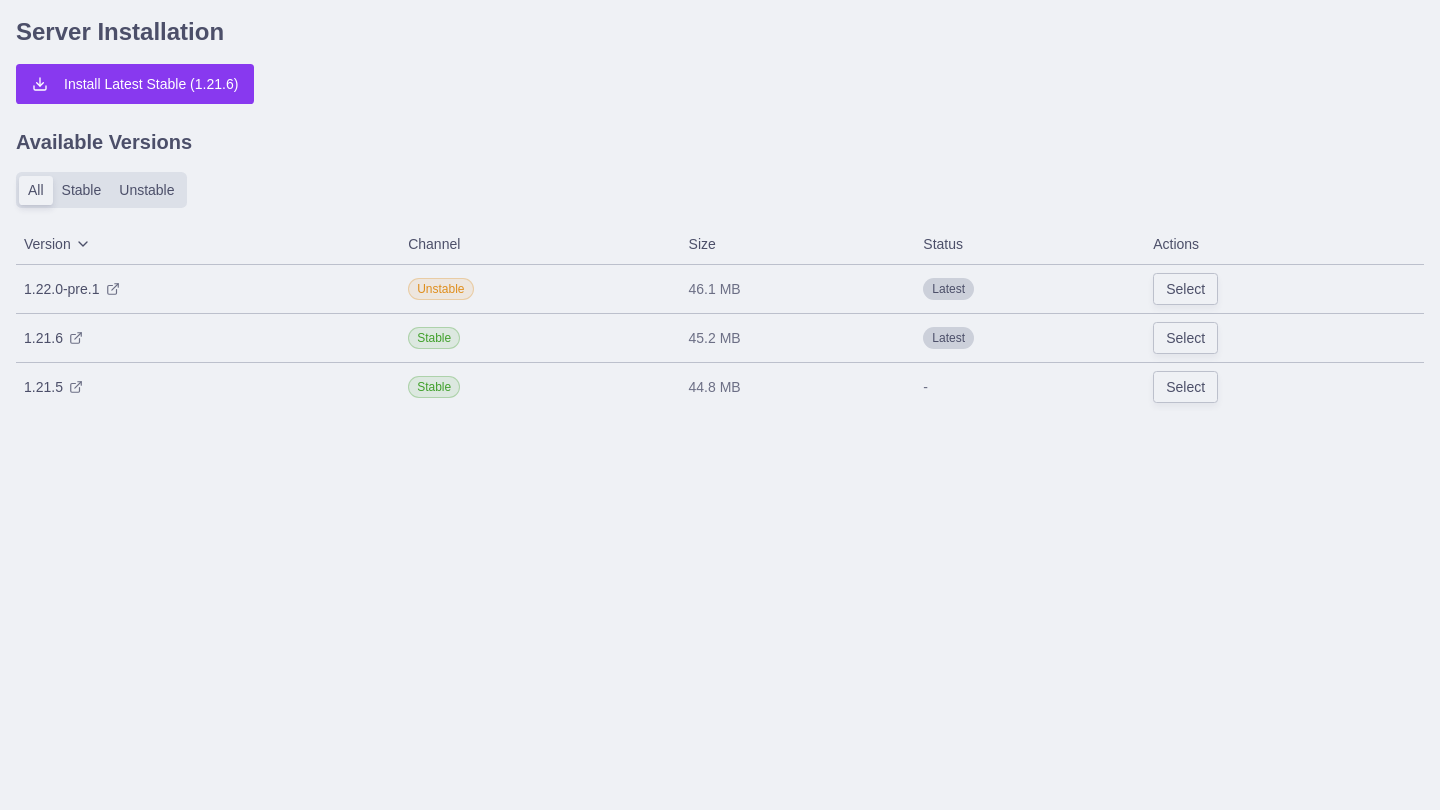
Test: VersionPage › not installed state (AC: 1, Story 13.5) › opens InstallVersionDialog on Select button click when not installed
Expected: the row with test id "version-table-row-1.21.6" is shown, [16, 313, 1424, 362]
// Click Select button for a version
Click the button with test id "version-table-select-1.21.6" at point(1186, 338), box [1153, 322, 1218, 354]
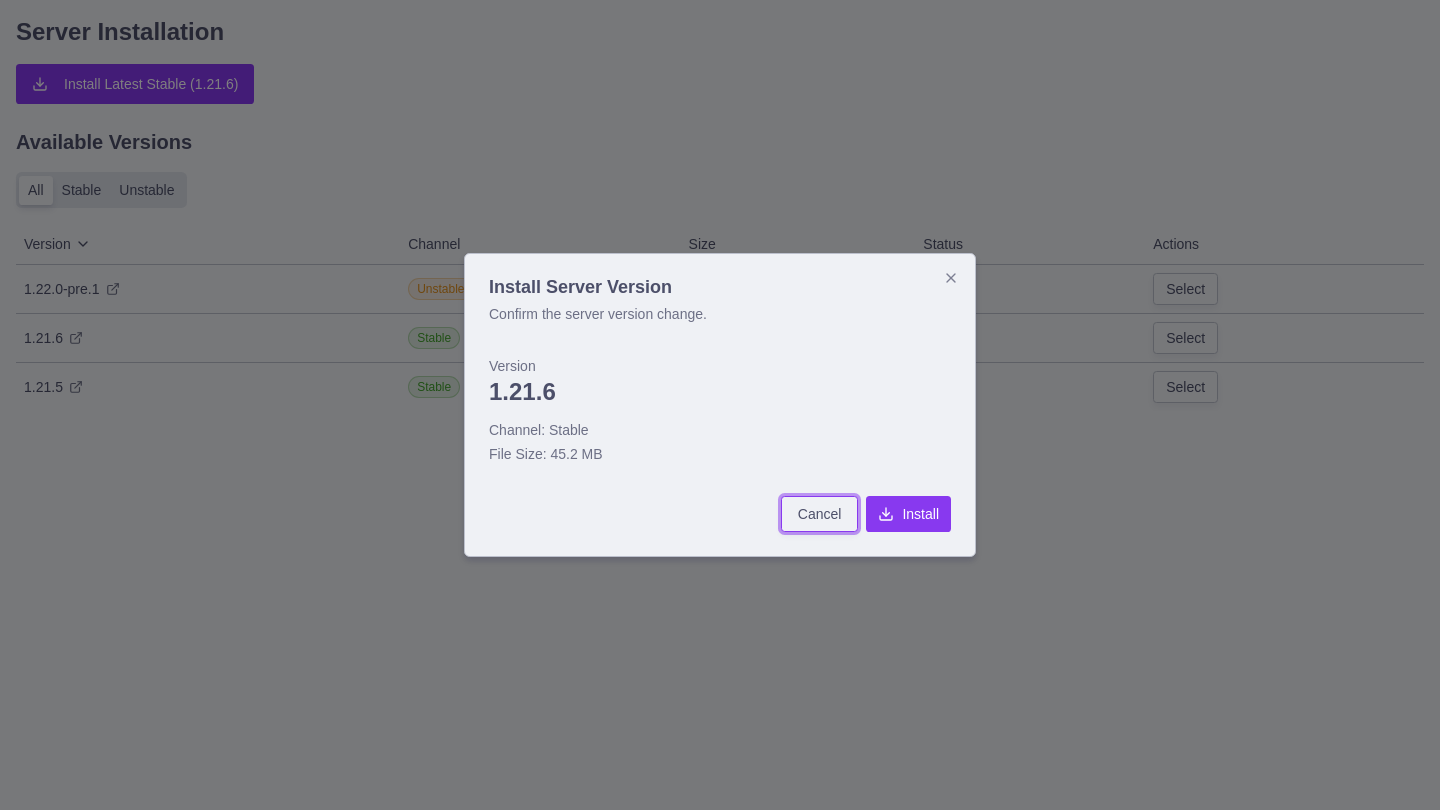
Expected: the dialog with test id "install-version-dialog" is shown, [464, 253, 976, 557]
Expected: the heading with test id "dialog-title" reads "Install Server Version", [489, 277, 672, 297]
